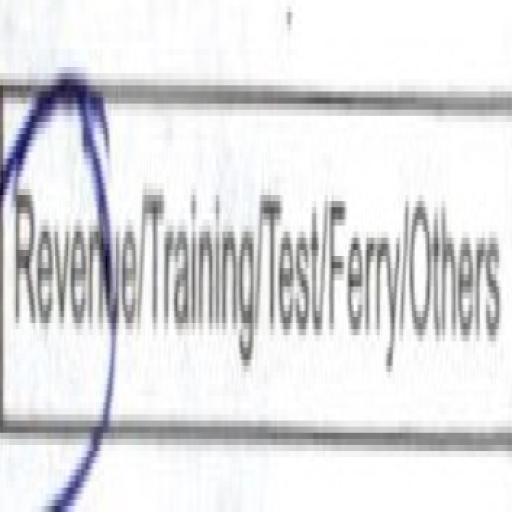check: (0, 66, 132, 510)
